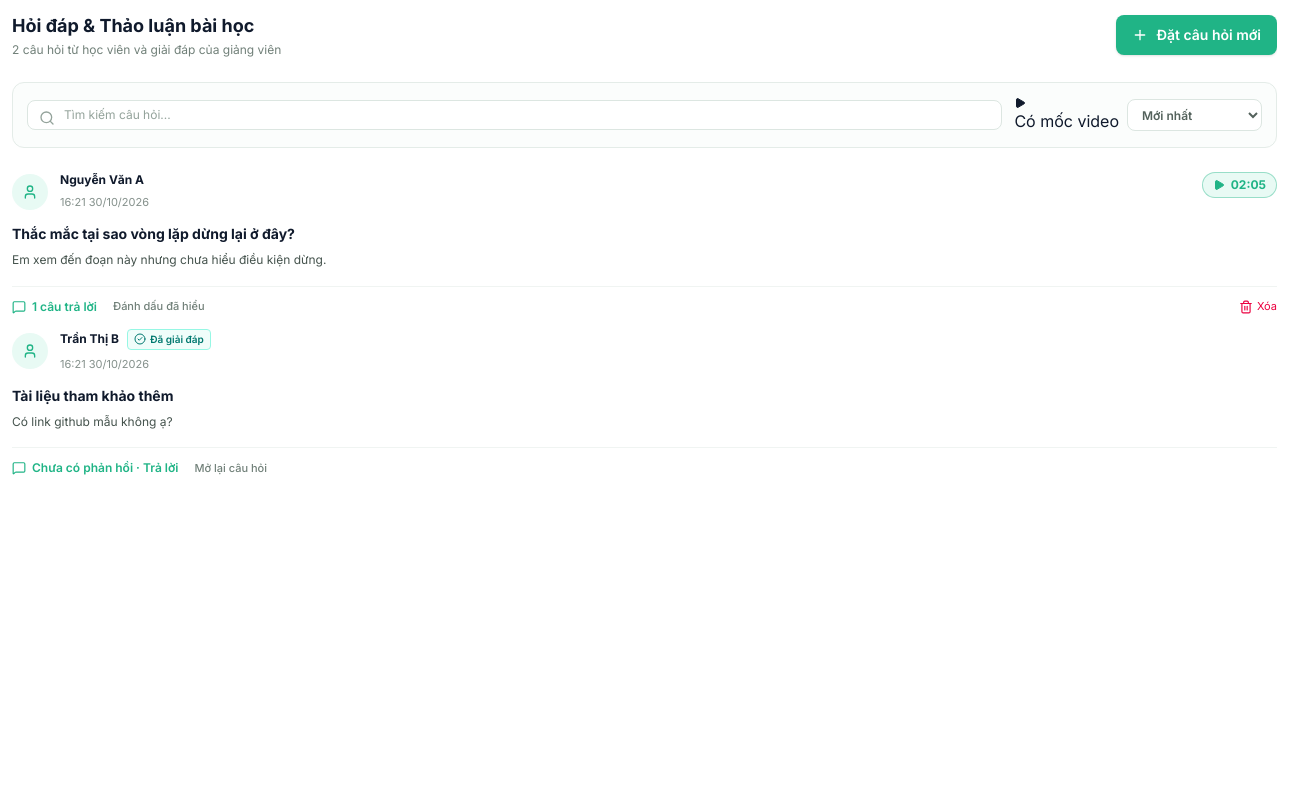
Test: LearningLessonDiscussions Component › expands a discussion thread and displays instructor reply badge
Click the button "1 câu trả lời".
click(54, 306)  # box [12, 298, 97, 314]
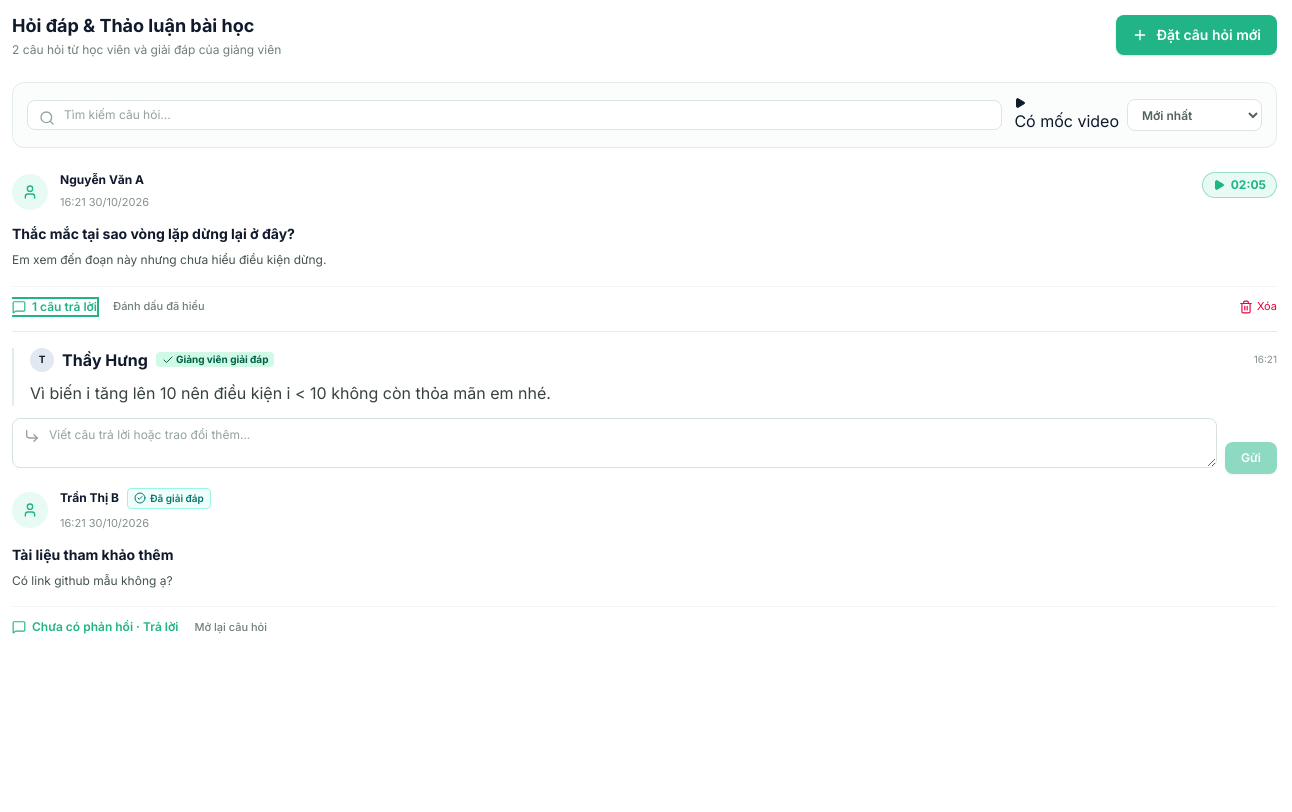
expect the text "Thầy Hưng" is shown: met, box [62, 348, 148, 372]
expect the text "Giảng viên giải đáp" is shown: met, box [156, 352, 274, 367]
expect the text "Vì biến i tăng lên 10 nên điều kiện i < 10 không còn thỏa mãn em nhé." is shown: met, box [30, 382, 551, 402]
